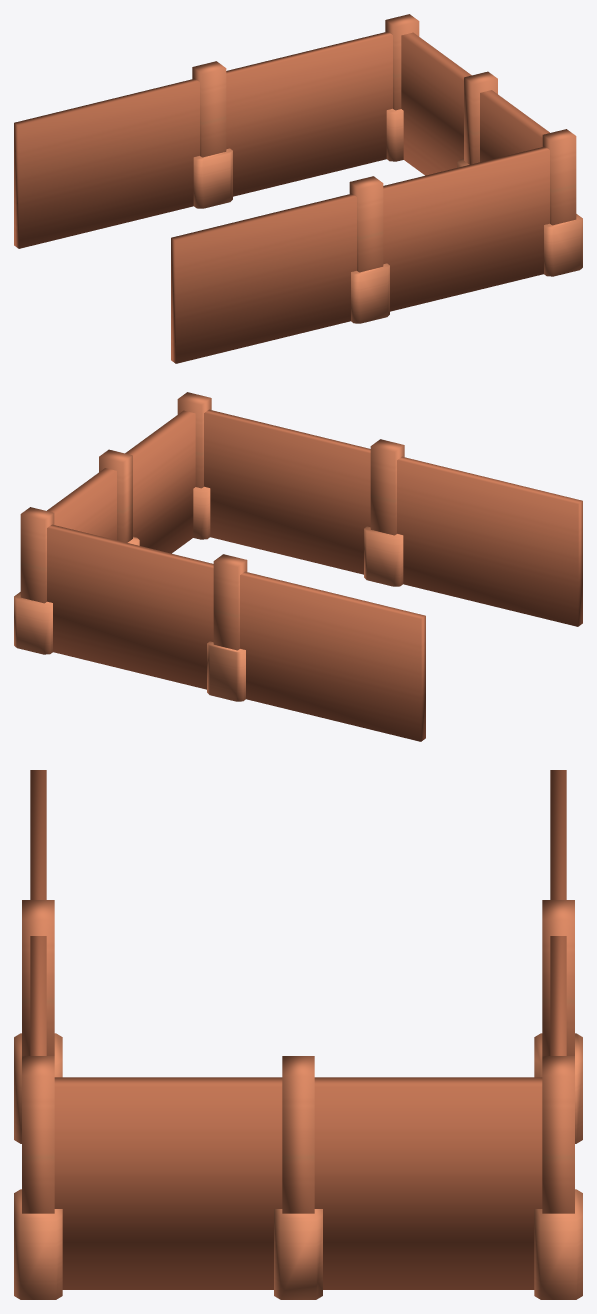
The model's file is n1_fence-2x2_lev1.glb.
3 renders of one model, top to bottom at view 1: azimuth 30°, elevation 25°; view 2: azimuth 150°, elevation 25°; view 3: azimuth 270°, elevation 25°, orthographic. The views are drawn at different scales.
Parts seen in each view (by area): view 1: n1_fence-2x2_lev1; view 2: n1_fence-2x2_lev1; view 3: n1_fence-2x2_lev1.
Part boxes in pixels (x1,y1,x2,y2): n1_fence-2x2_lev1: (14,14,582,363); n1_fence-2x2_lev1: (14,392,582,741); n1_fence-2x2_lev1: (14,770,582,1299).
Size of the model in its own units: 6.49 by 2.03 by 4.78.
1 material, 1 textured.
